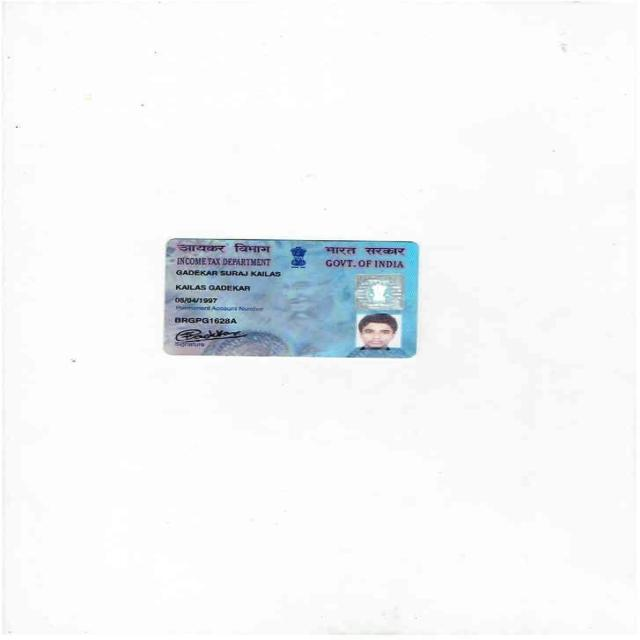pan_card: (161, 239, 418, 357)
